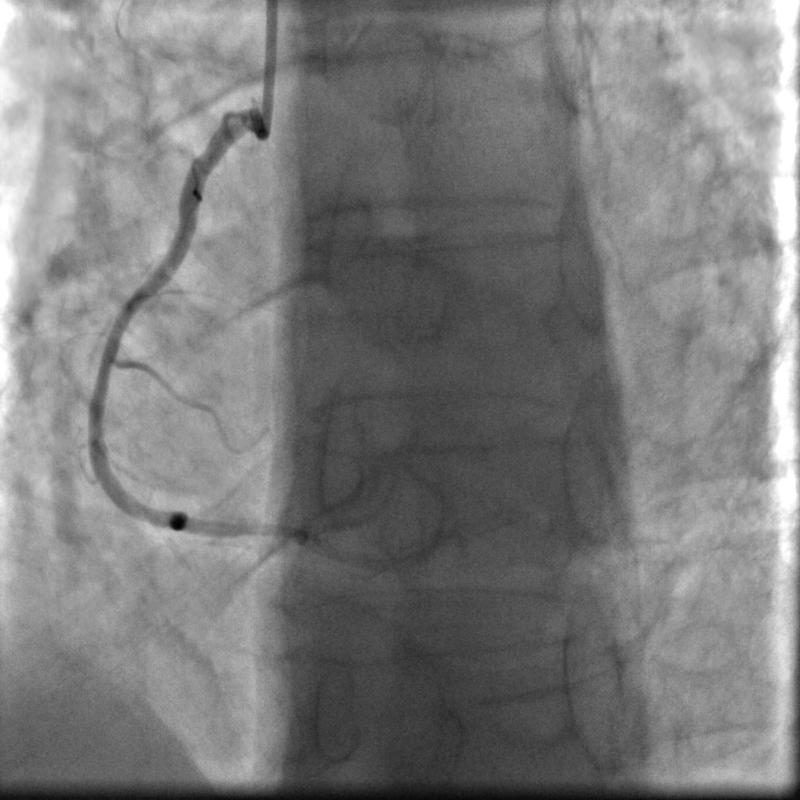Stenosis: (181, 487, 289, 559)
